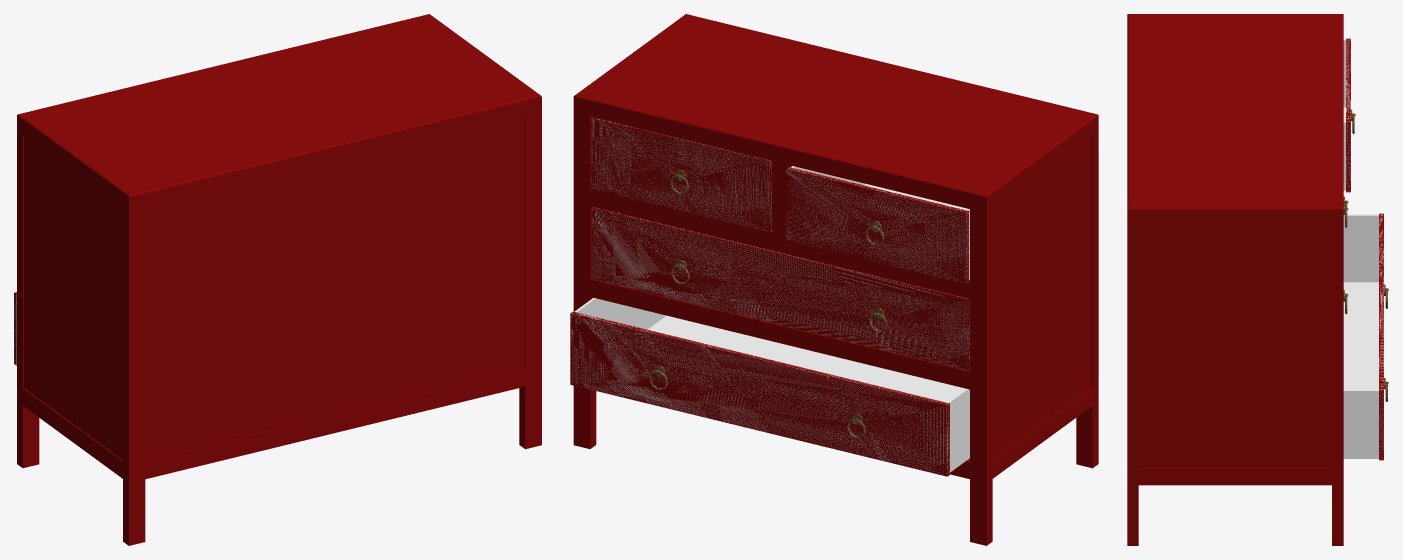
The picture shows the model from 3 angles, left to right: view 1: azimuth 30°, elevation 25°; view 2: azimuth 150°, elevation 25°; view 3: azimuth 270°, elevation 25°; orthographic projection. The views are drawn at different scales.
Visible parts, largest first — view 1: mesh1_mesh1-geometry; view 2: mesh1_mesh1-geometry, mesh7_mesh7-geometry, mesh4_mesh4-geometry, mesh2_mesh2-geometry; view 3: mesh1_mesh1-geometry, mesh7_mesh7-geometry, mesh4_mesh4-geometry.
Part boxes in pixels (left/top/right/bottom): mesh1_mesh1-geometry: left=17, top=14, right=541, bottom=545; mesh1_mesh1-geometry: left=573, top=14, right=1098, bottom=545; mesh7_mesh7-geometry: left=570, top=207, right=969, bottom=476; mesh4_mesh4-geometry: left=591, top=117, right=969, bottom=283; mesh2_mesh2-geometry: left=649, top=174, right=887, bottom=438; mesh1_mesh1-geometry: left=1127, top=14, right=1343, bottom=545; mesh7_mesh7-geometry: left=1343, top=196, right=1385, bottom=460; mesh4_mesh4-geometry: left=1343, top=38, right=1352, bottom=214.
Bounding box in the file's own units: 0.7109 × 0.5758 × 0.4038.
